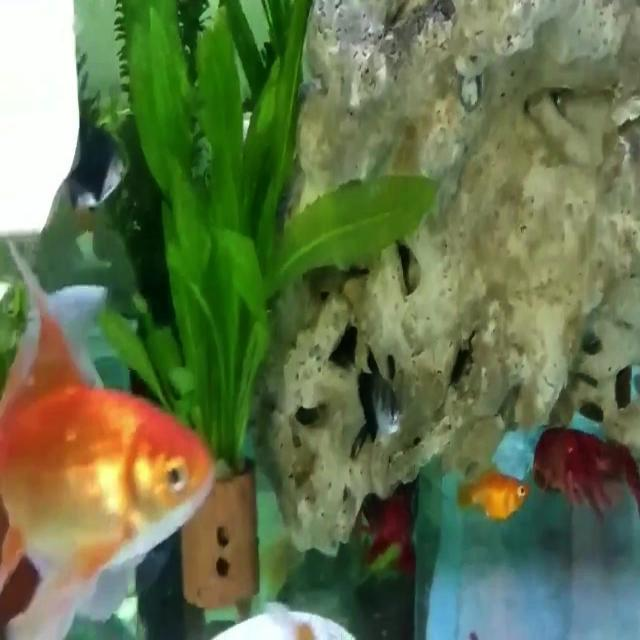GoldFish: (0, 244, 222, 639)
